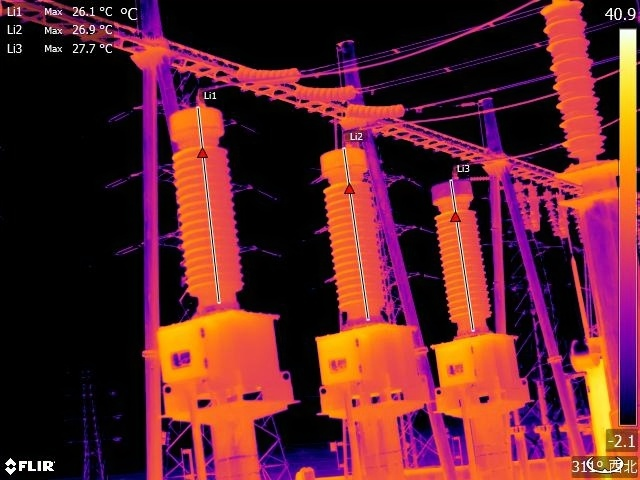current transformer: (148, 101, 284, 396), (308, 142, 438, 417), (430, 169, 530, 401)
insulator: (342, 96, 408, 122), (232, 63, 303, 86), (290, 81, 361, 104), (525, 178, 543, 235), (554, 188, 572, 241), (543, 187, 559, 236), (512, 176, 527, 228)
post insulator: (538, 1, 611, 162)
